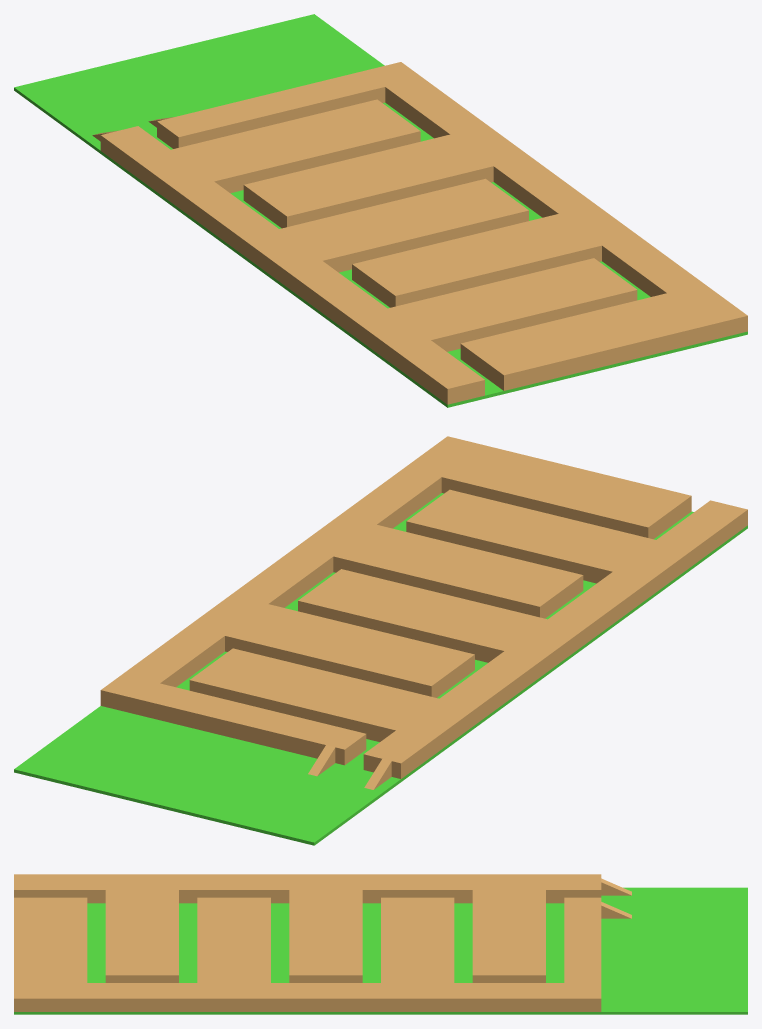
Rendered from TestMapGetrennt.fbx.
3 views of the same model, one above another, from view 1: azimuth 30°, elevation 25°; view 2: azimuth 150°, elevation 25°; view 3: azimuth 270°, elevation 25° (orthographic). The views are drawn at different scales.
Parts seen in each view (by area): view 1: Wall, Ground; view 2: Wall, Ground; view 3: Wall, Ground.
Boxes of the visible parts, x1,y1,x2,y2 form: Wall: [92, 62, 747, 404]; Ground: [14, 14, 747, 407]; Wall: [100, 436, 747, 789]; Ground: [14, 493, 747, 845]; Wall: [14, 874, 631, 1011]; Ground: [14, 887, 747, 1014].
Bounding box in the file's own units: 20000 × 1200 × 50000.
